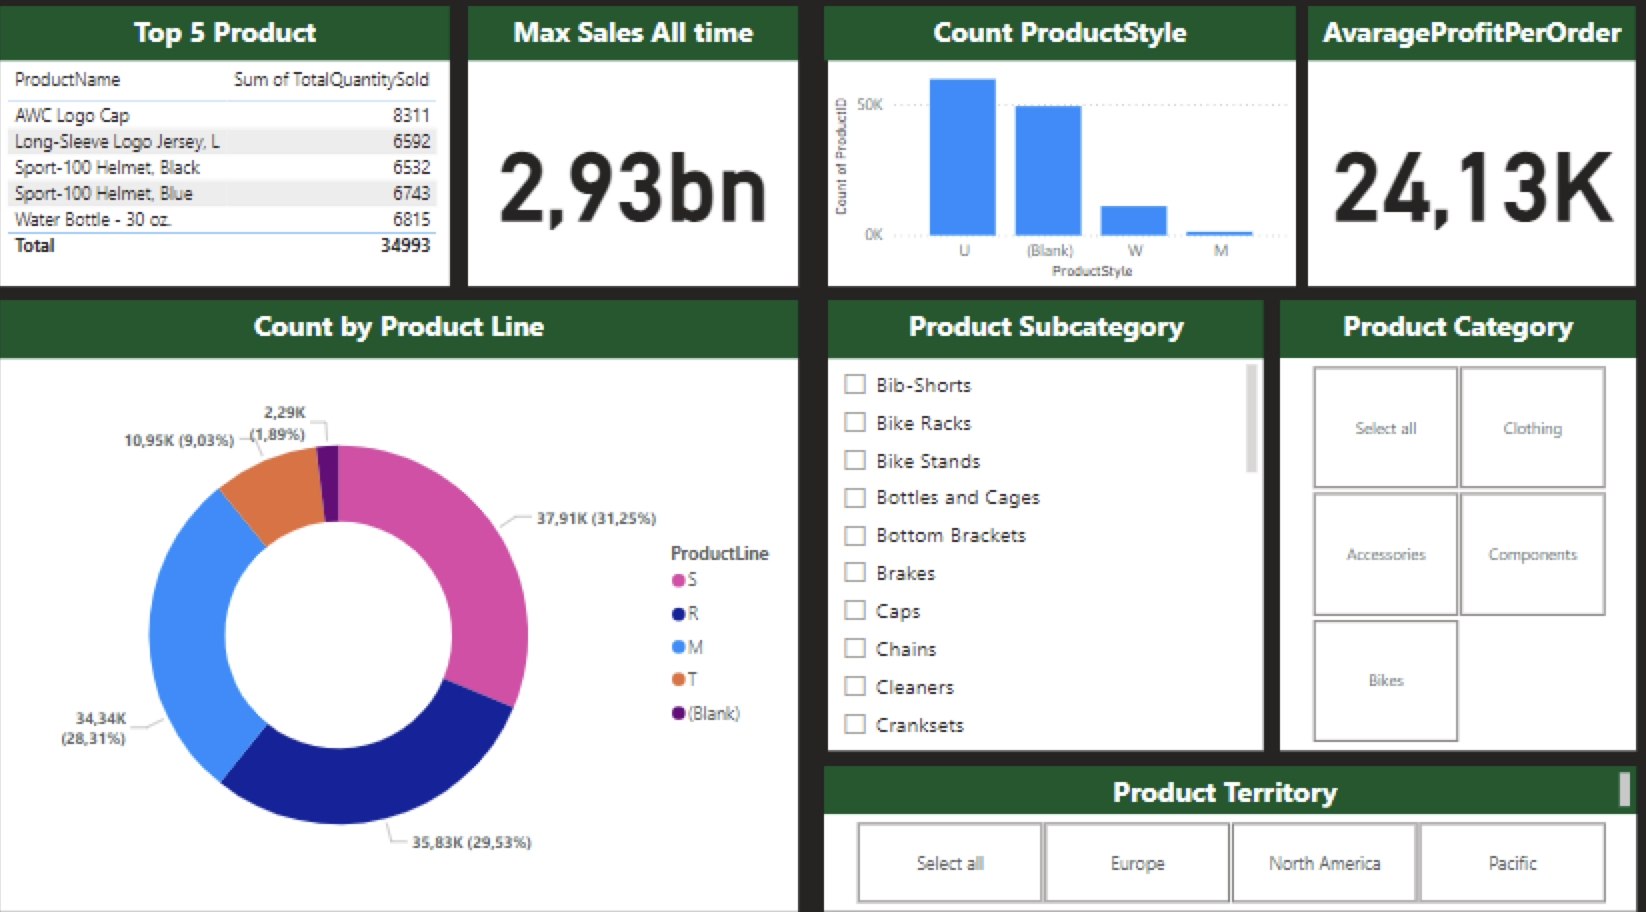

The page's visual inventory and layout, read from the dashboard file:
{"tool":"powerbi","page":{"name":"Page 3","canvas":[1280,720],"ordinal":2},"visuals":[{"type":"tableEx","fields":{"Values":["Query4.ProductName","Sum(Query4.TotalQuantitySold)"]},"box":[6.2,53.8,346.2,173.8],"z":0},{"type":"textbox","box":[6.2,12.3,346.2,41.5],"z":2},{"type":"card","fields":{"Values":["Sum(Query1.TotalDue)"]},"box":[366.2,53.8,253.8,173.8],"z":3},{"type":"textbox","box":[366.2,12.3,253.8,41.5],"z":4},{"type":"columnChart","fields":{"Category":["Query1.ProductStyle"],"Y":["CountNonNull(Query1.ProductID)"]},"box":[643.1,53.8,360,173.8],"z":5},{"type":"textbox","box":[640,12.3,363.1,41.5],"z":6},{"type":"card","fields":{"Values":["Avg(Query1.TotalDue)"]},"box":[1012.3,53.8,252.3,173.8],"z":7},{"type":"textbox","box":[1012.3,12.3,252.3,41.5],"z":8},{"type":"donutChart","fields":{"Category":["Query1.ProductLine"],"Y":["CountNonNull(Query1.ProductID)"]},"box":[6.2,283.1,613.8,426.2],"z":9},{"type":"textbox","box":[6.2,238.5,613.8,44.6],"z":10},{"type":"slicer","fields":{"Values":["Query1.TerritoryGroup"]},"box":[640,633.8,624.6,75.4],"z":11},{"type":"slicer","fields":{"Values":["Query1.ProductSubcategoryName"]},"box":[643.1,283.1,335.4,301.5],"z":12},{"type":"textbox","box":[643.1,238.5,335.4,44.6],"z":14},{"type":"textbox","box":[990.8,238.5,273.8,44.6],"z":15},{"type":"textbox","box":[640,596.9,624.6,36.9],"z":16},{"type":"slicer","fields":{"Values":["Query1.ProductCategoryName"]},"box":[991,283,274,302],"z":17}]}

Visuals, with their boxes in screenshot pixels (x1, y1, x2, y2), scaled from the page's 1280x720 canvas onto the 1646x912 screenshot:
tableEx - Query4.ProductName x Sum(Query4.TotalQuantitySold): <box>8,68,453,288</box>
textbox: <box>8,16,453,68</box>
card - Sum(Query1.TotalDue): <box>471,68,797,288</box>
textbox: <box>471,16,797,68</box>
columnChart - Query1.ProductStyle x CountNonNull(Query1.ProductID): <box>827,68,1290,288</box>
textbox: <box>823,16,1290,68</box>
card - Avg(Query1.TotalDue): <box>1302,68,1626,288</box>
textbox: <box>1302,16,1626,68</box>
donutChart - Query1.ProductLine x CountNonNull(Query1.ProductID): <box>8,359,797,898</box>
textbox: <box>8,302,797,359</box>
slicer - Query1.TerritoryGroup: <box>823,803,1626,898</box>
slicer - Query1.ProductSubcategoryName: <box>827,359,1258,740</box>
textbox: <box>827,302,1258,359</box>
textbox: <box>1274,302,1626,359</box>
textbox: <box>823,756,1626,803</box>
slicer - Query1.ProductCategoryName: <box>1274,358,1627,741</box>
